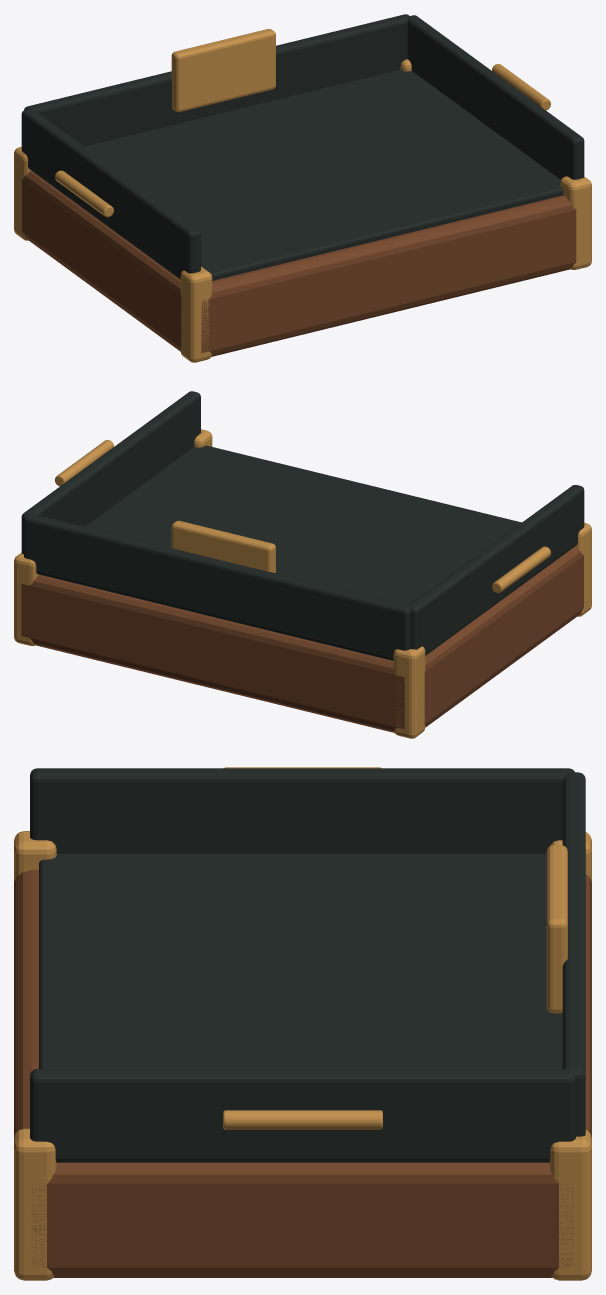
File: hybrid-trash-tray-closed.glb
3 renders of one model, top to bottom at view 1: azimuth 30°, elevation 25°; view 2: azimuth 150°, elevation 25°; view 3: azimuth 270°, elevation 25°, orthographic. The views are drawn at different scales.
Visible parts, largest first — view 1: Leather receiving surface, Walnut tray base, Back leather wall, Right leather wall, Left leather wall, Hinged brass warning flap, Brass tray corner, Brass tray corner.002, Brass tray corner.001, Brass side handle, Brass side handle.001; view 2: Walnut tray base, Leather receiving surface, Back leather wall, Left leather wall, Right leather wall, Hinged brass warning flap, Brass tray corner.001, Brass tray corner.003, Brass tray corner, Brass side handle, Brass side handle.001; view 3: Leather receiving surface, Walnut tray base, Right leather wall, Left leather wall, Back leather wall, Brass tray corner.002, Brass tray corner.003, Hinged brass warning flap, Brass side handle.001, Brass tray corner.
Boxes of the visible parts, x1,y1,x2,y2 form: Leather receiving surface: (84,69,563,280); Walnut tray base: (22,171,576,356); Back leather wall: (24,14,409,146); Right leather wall: (407,15,584,179); Left leather wall: (21,109,200,279); Hinged brass warning flap: (171,29,275,112); Brass tray corner: (180,266,212,362); Brass tray corner.002: (560,176,591,269); Brass tray corner.001: (14,147,31,240); Brass side handle: (55,170,113,217); Brass side handle.001: (492,64,550,110); Walnut tray base: (21,547,583,732); Leather receiving surface: (85,445,521,605); Back leather wall: (24,514,410,660); Left leather wall: (408,485,584,655); Right leather wall: (21,391,200,554); Hinged brass warning flap: (171,520,275,573); Brass tray corner.001: (393,646,425,738); Brass tray corner.003: (14,552,38,645); Brass tray corner: (574,523,591,616); Brass side handle: (492,546,550,593); Brass side handle.001: (55,440,113,486); Leather receiving surface: (39,854,562,1068); Walnut tray base: (14,870,591,1277); Right leather wall: (30,1069,575,1162); Left leather wall: (30,768,574,853); Back leather wall: (562,772,585,1136); Brass tray corner.002: (14,1128,56,1280); Brass tray corner.003: (549,1130,591,1280); Hinged brass warning flap: (546,845,567,1013); Brass side handle.001: (223,1110,382,1129); Brass tray corner: (14,831,56,881).
Size of the model in its own units: 4.67 by 1.51 by 3.25.
